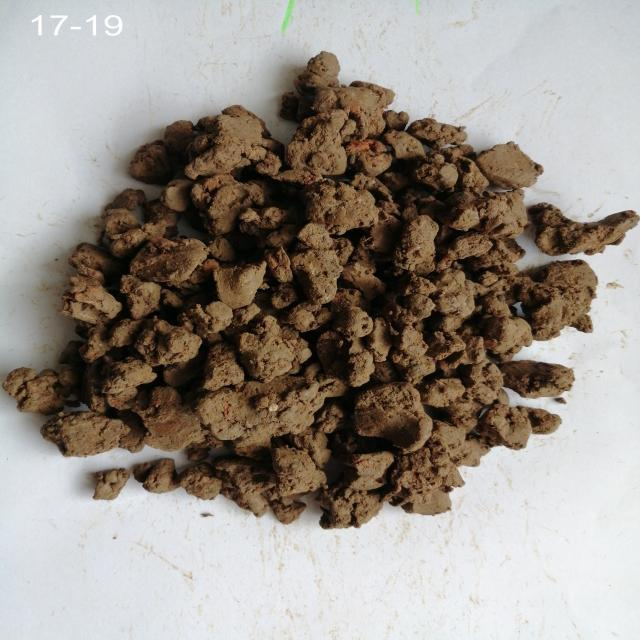soil: (183, 158, 472, 438)
